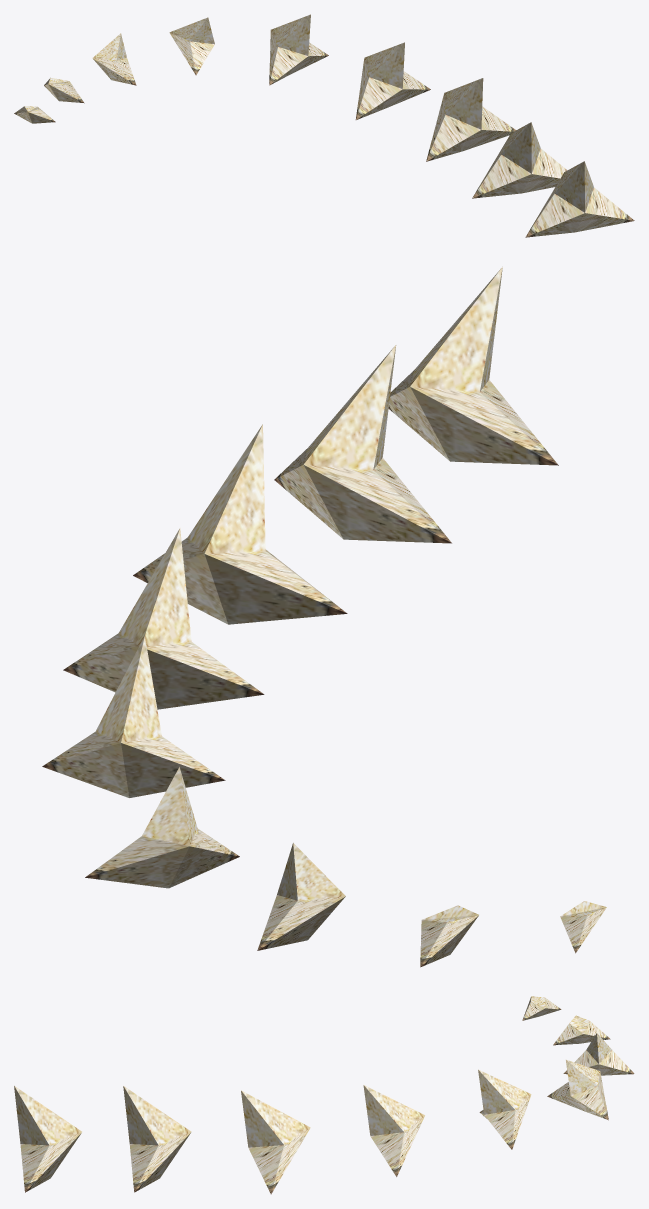
File: poi_tato_skel_krayt_tail_l2.fbx
3 renders of one model, top to bottom at view 1: azimuth 30°, elevation 25°; view 2: azimuth 150°, elevation 25°; view 3: azimuth 270°, elevation 25°, orthographic. The views are drawn at different scales.
Parts seen in each view (by area): view 1: mesh_node; view 2: mesh_node; view 3: mesh_node.
Part boxes in pixels (x1,y1,x2,y2): mesh_node: (14,14,634,237); mesh_node: (42,267,606,967); mesh_node: (14,996,634,1194).
Bounding box in the file's own units: 4.26 × 0.9668 × 6.13.
Materials: 1 (1 with a texture image).
